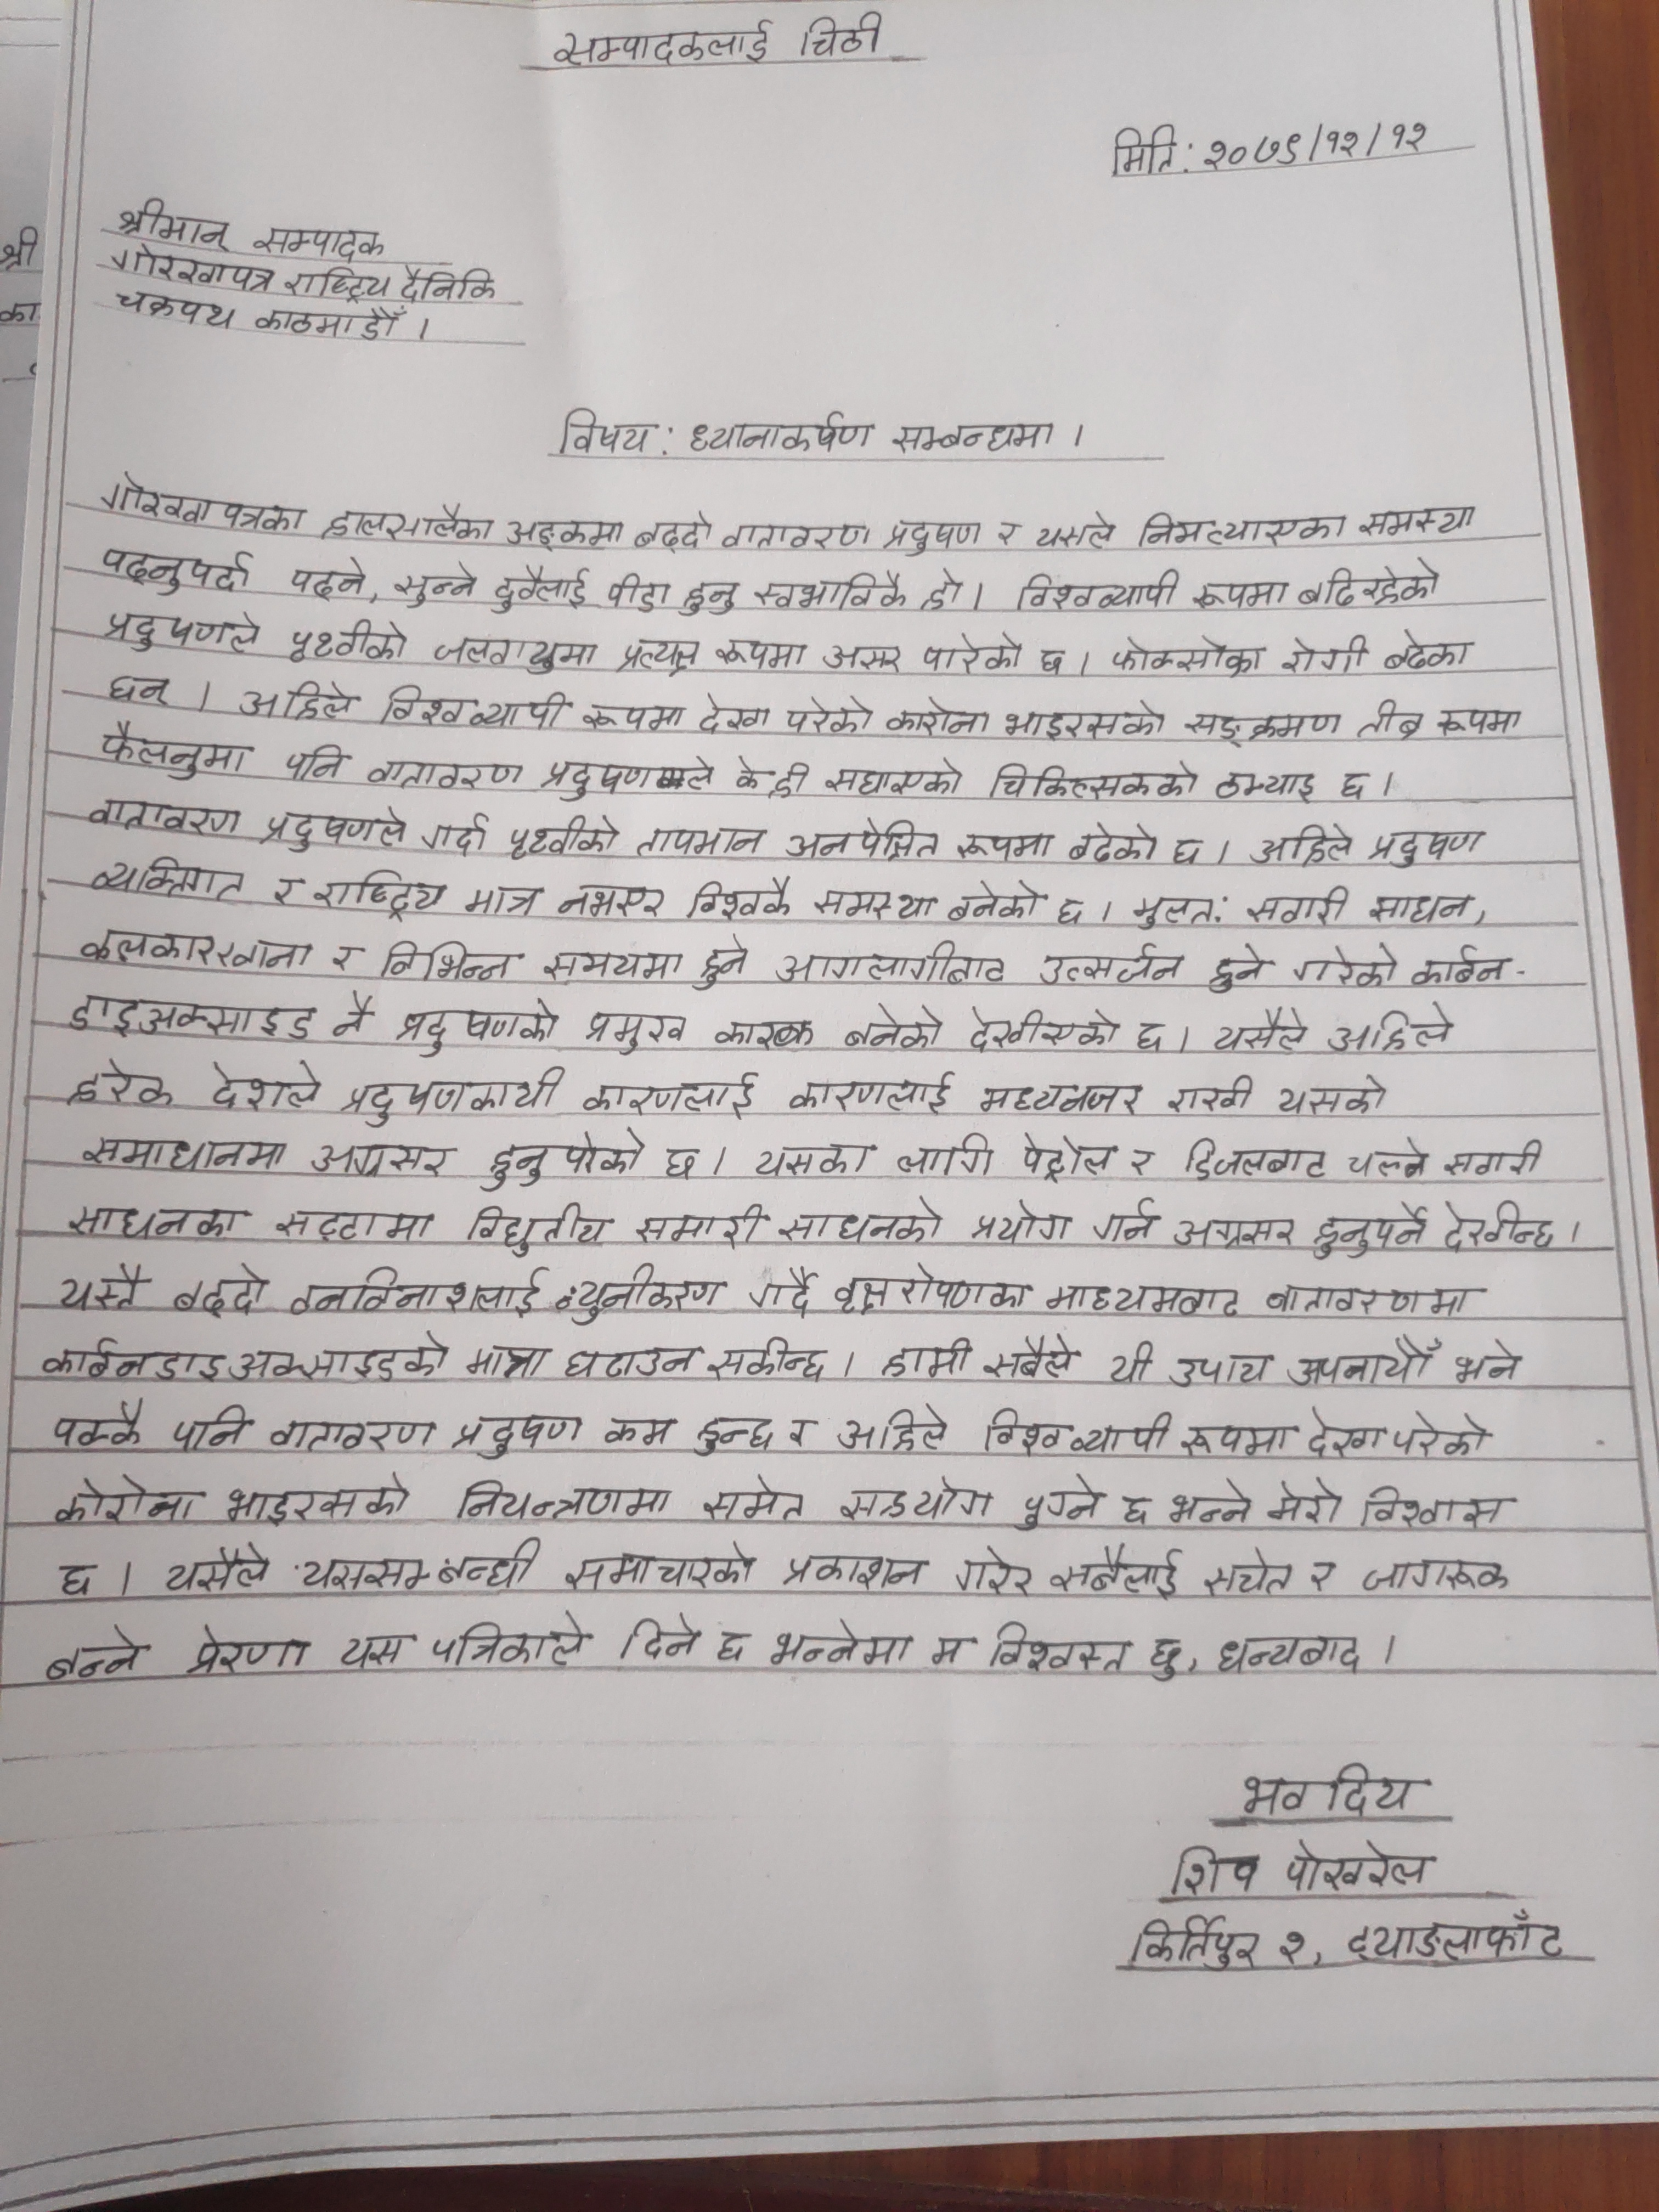text: (289, 1263, 545, 1324), (342, 1059, 558, 1130), (63, 986, 321, 1043), (92, 470, 310, 536), (80, 920, 317, 977), (1344, 1911, 1574, 1970), (1204, 118, 1438, 176), (298, 1538, 544, 1590), (450, 1470, 671, 1527), (1232, 1752, 1419, 1818), (547, 16, 779, 66), (225, 1329, 450, 1379), (981, 1402, 1173, 1461), (568, 1538, 760, 1597), (831, 1263, 1033, 1318), (551, 1261, 725, 1325), (772, 942, 1009, 989), (37, 1329, 225, 1386), (434, 1609, 587, 1677), (96, 718, 253, 784), (1046, 1271, 1244, 1324), (1260, 1278, 1492, 1322), (479, 1129, 648, 1188), (537, 751, 720, 805), (378, 686, 572, 737), (396, 995, 554, 1055), (985, 761, 1202, 805), (457, 1198, 610, 1259), (227, 1472, 411, 1522), (92, 542, 260, 597), (99, 242, 275, 294), (1124, 1911, 1262, 1977), (967, 1000, 1121, 1059), (685, 408, 877, 455), (1274, 1841, 1439, 1895), (580, 1071, 763, 1120), (63, 1198, 249, 1245), (98, 601, 265, 653), (1134, 510, 1351, 550), (84, 855, 249, 907), (1288, 1334, 1443, 1390), (1359, 1479, 1514, 1534), (779, 1197, 950, 1247), (429, 625, 598, 676), (767, 1618, 922, 1672), (1042, 1547, 1183, 1606), (887, 415, 1061, 462), (786, 1073, 960, 1120), (981, 1625, 1133, 1679), (753, 564, 913, 615), (1295, 557, 1443, 611), (77, 1134, 291, 1170), (310, 867, 450, 923), (1014, 566, 1185, 611), (1110, 632, 1267, 681), (272, 1198, 439, 1244), (369, 934, 519, 984), (1439, 1197, 1560, 1259), (319, 507, 498, 549), (1180, 1136, 1328, 1186), (56, 1477, 202, 1527), (260, 803, 410, 852), (84, 796, 244, 841), (782, 819, 943, 864), (267, 1416, 439, 1458), (254, 294, 404, 341), (1314, 1200, 1429, 1261), (361, 752, 528, 794), (181, 1623, 310, 1677), (1033, 942, 1187, 988), (974, 1078, 1140, 1120), (200, 1059, 321, 1116), (1204, 1634, 1363, 1677), (777, 1554, 929, 1599), (110, 199, 235, 253), (823, 756, 965, 803), (1004, 700, 1164, 742), (1178, 705, 1344, 745), (631, 1204, 765, 1252), (40, 1623, 146, 1684), (1330, 1007, 1453, 1059), (451, 1409, 584, 1458), (162, 1543, 277, 1599), (282, 620, 408, 671), (697, 1472, 814, 1526), (502, 813, 622, 866), (554, 401, 657, 462), (563, 1339, 701, 1385), (836, 1000, 945, 1057), (63, 1057, 178, 1111), (234, 679, 361, 728), (1006, 1127, 1115, 1183), (1286, 939, 1403, 991), (838, 1489, 990, 1529), (838, 1407, 957, 1458), (112, 287, 239, 334), (1175, 1212, 1302, 1259), (537, 944, 685, 984), (1387, 1409, 1493, 1465), (812, 881, 941, 927), (704, 1339, 828, 1386), (1272, 1069, 1391, 1118), (749, 1134, 877, 1179), (488, 563, 594, 617), (1169, 1839, 1260, 1902), (683, 873, 795, 923), (1175, 1416, 1298, 1461), (251, 221, 390, 261), (1358, 496, 1476, 543), (1359, 1557, 1511, 1594), (636, 820, 769, 862), (390, 261, 504, 310), (721, 519, 878, 554), (1375, 622, 1469, 679), (545, 876, 660, 923), (310, 1143, 457, 1179), (171, 1263, 267, 1318), (1206, 1010, 1314, 1059), (615, 1609, 706, 1667), (1361, 826, 1485, 867), (917, 627, 1026, 674), (1241, 885, 1354, 930), (985, 1331, 1073, 1388), (974, 1198, 1075, 1249), (582, 1010, 687, 1059), (1185, 571, 1295, 617), (1204, 1548, 1293, 1604), (282, 260, 396, 303), (580, 693, 685, 740), (51, 1399, 145, 1451), (1405, 941, 1513, 986), (52, 1259, 143, 1313), (1443, 1136, 1549, 1181), (1063, 817, 1164, 864), (390, 559, 481, 611), (894, 1134, 999, 1179), (880, 1334, 971, 1386), (1279, 631, 1371, 681), (730, 751, 814, 806), (945, 1548, 1033, 1601), (1249, 820, 1356, 864), (880, 697, 990, 738), (1011, 1479, 1105, 1527), (1162, 1477, 1253, 1527), (1302, 1406, 1384, 1461), (504, 516, 627, 552), (687, 1414, 774, 1465), (1168, 1352, 1272, 1393), (1260, 1477, 1344, 1529), (1164, 1073, 1260, 1118), (1030, 510, 1119, 559), (953, 822, 1053, 866), (800, 12, 885, 63), (167, 1404, 253, 1454), (1108, 120, 1183, 176), (1448, 1338, 1523, 1393), (1215, 765, 1314, 806), (782, 695, 873, 740), (887, 517, 985, 559), (289, 552, 369, 603), (943, 880, 1044, 920), (714, 636, 810, 678), (1344, 1137, 1425, 1186), (711, 1017, 819, 1054), (617, 634, 706, 678), (744, 1266, 816, 1318), (462, 1341, 551, 1383), (1363, 890, 1474, 923), (1091, 1198, 1161, 1251), (1429, 700, 1523, 738), (634, 510, 720, 552), (671, 571, 744, 620), (1124, 894, 1215, 932), (692, 697, 775, 737), (420, 813, 493, 859), (598, 1407, 671, 1453), (272, 744, 350, 786), (460, 885, 549, 921), (1354, 700, 1425, 744), (1204, 944, 1267, 993), (342, 1635, 416, 1676), (821, 641, 903, 678), (605, 571, 678, 611), (697, 934, 749, 986), (322, 989, 376, 1040), (913, 568, 969, 615), (1145, 1634, 1190, 1691), (1110, 1336, 1159, 1385), (108, 674, 171, 707), (709, 1625, 756, 1669), (52, 1561, 96, 1602), (931, 1627, 972, 1669), (1304, 1554, 1342, 1599), (985, 516, 1025, 556), (1272, 1928, 1310, 1970), (265, 871, 301, 913), (1051, 895, 1089, 934), (784, 1414, 816, 1460), (1166, 834, 1204, 871), (662, 1141, 699, 1179), (1121, 1146, 1159, 1183), (1134, 1017, 1169, 1057), (1333, 768, 1371, 803), (1122, 1491, 1154, 1533), (1033, 648, 1068, 681), (328, 942, 366, 972)
